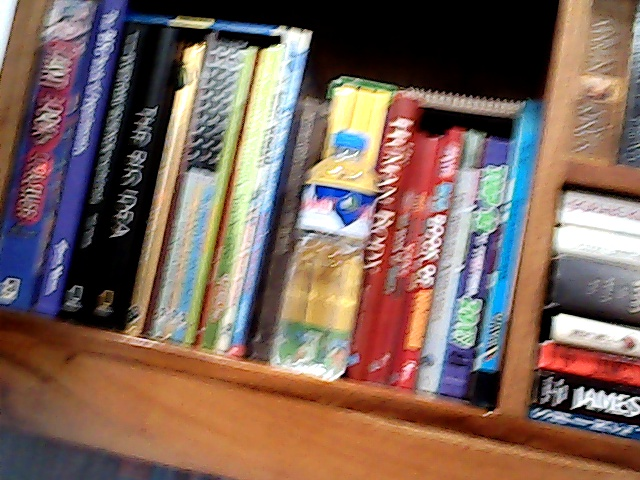Summit Water: (284, 132, 376, 371)
